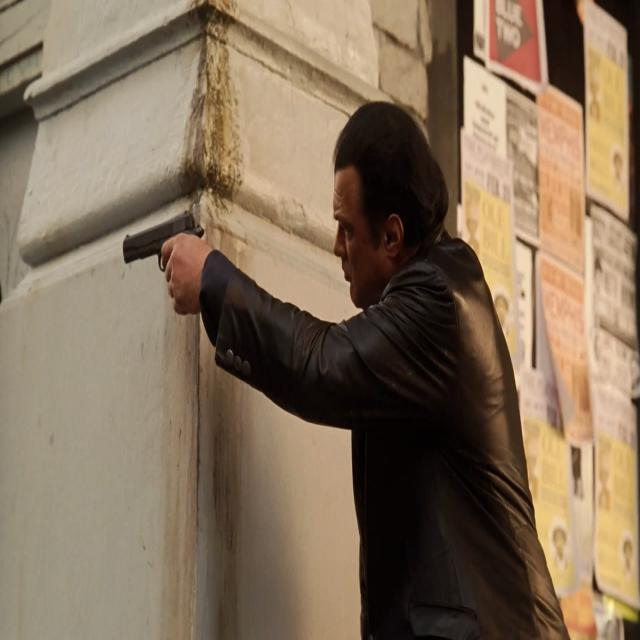gun-knife-thesis - v11 Yolov5 augmented: (122, 204, 205, 316)
